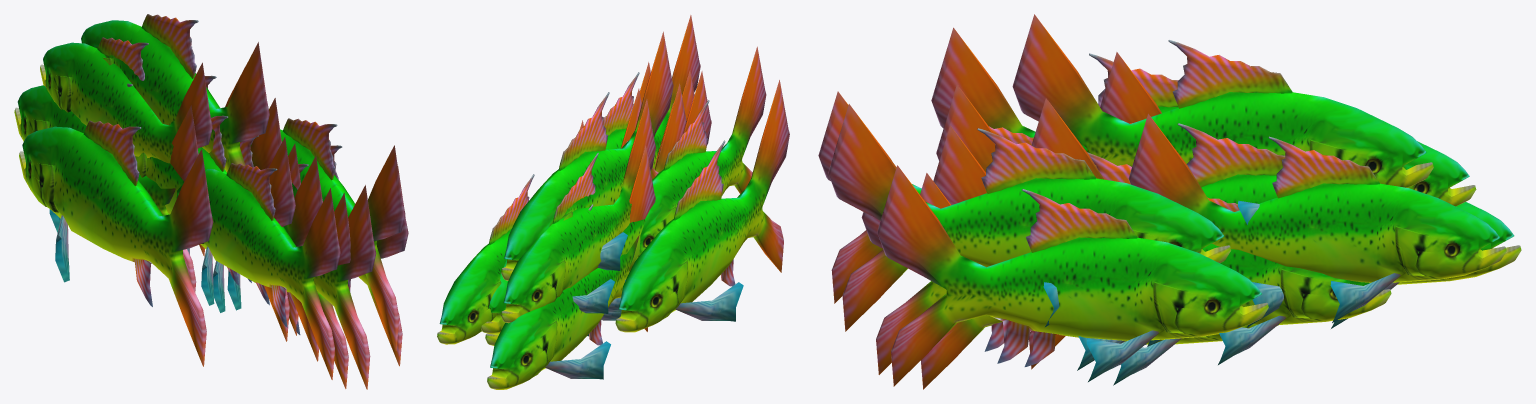
The model's file is RawFishPile_Trout.glb.
3 renders of one model, left to right at view 1: azimuth 30°, elevation 25°; view 2: azimuth 150°, elevation 25°; view 3: azimuth 270°, elevation 25°, orthographic. The views are drawn at different scales.
Visible parts, largest first — view 1: RawFishPile_Trout; view 2: RawFishPile_Trout; view 3: RawFishPile_Trout.
Part boxes in pixels (x1=…): RawFishPile_Trout: x1=14, y1=14, x2=408, y2=389; RawFishPile_Trout: x1=437, y1=15, x2=789, y2=389; RawFishPile_Trout: x1=818, y1=14, x2=1521, y2=389.
Size of the model in its own units: 0.9654 by 1.09 by 1.95.
1 material, 1 textured.
